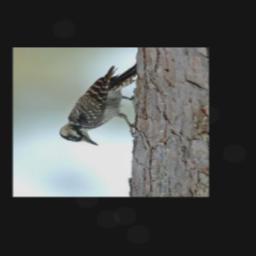Woodpecker: (57, 61, 145, 146)
